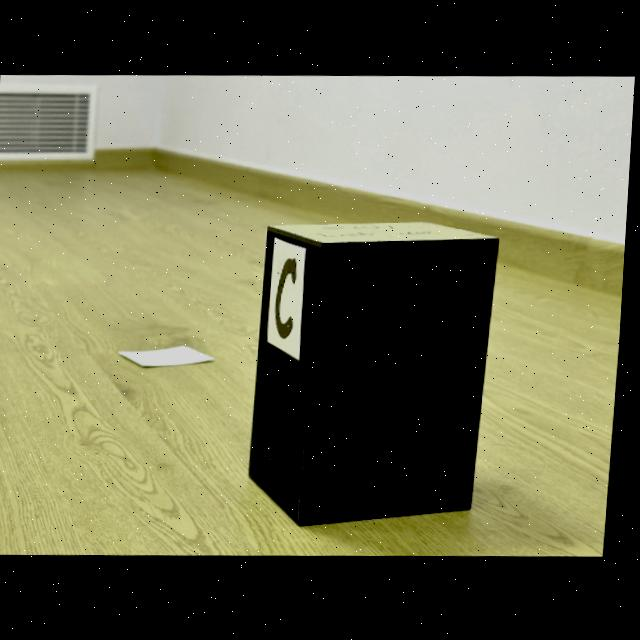C: (278, 259, 300, 338)
